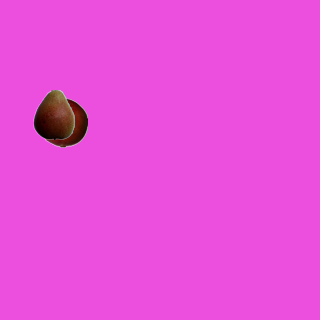Apple Braeburn: (37, 97, 87, 147)
Pear Forelle: (28, 89, 78, 139)
